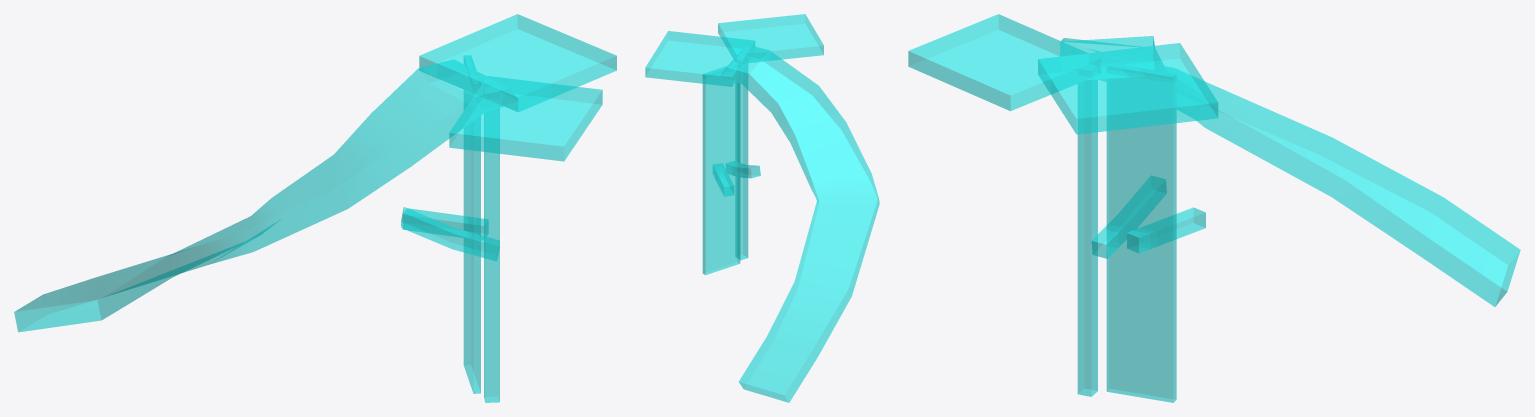
The model's file is SM_Bld_Plane_Hull_01_Platforms_01_Collision.fbx.
The picture shows the model from 3 angles, left to right: view 1: azimuth 30°, elevation 25°; view 2: azimuth 150°, elevation 25°; view 3: azimuth 270°, elevation 25°; orthographic projection. The views are drawn at different scales.
Visible parts, largest first — view 1: SM_Bld_Plane_Hull_01_Platforms_01_Collision; view 2: SM_Bld_Plane_Hull_01_Platforms_01_Collision; view 3: SM_Bld_Plane_Hull_01_Platforms_01_Collision.
Part boxes in pixels (x1,y1,x2,y2): SM_Bld_Plane_Hull_01_Platforms_01_Collision: (14, 14, 616, 402); SM_Bld_Plane_Hull_01_Platforms_01_Collision: (645, 14, 879, 402); SM_Bld_Plane_Hull_01_Platforms_01_Collision: (908, 14, 1520, 402).
Bounding box in the file's own units: 866 × 689 × 1089.
